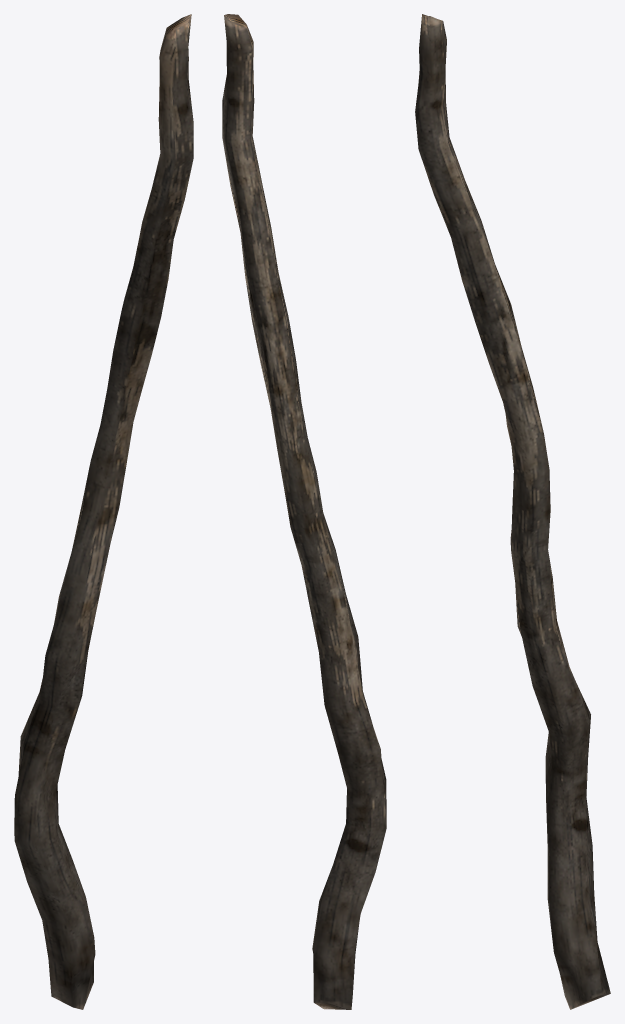
Rendered from SM_Single_Twig_E.fbx.
3 views of the same model, side by side, from view 1: azimuth 30°, elevation 25°; view 2: azimuth 210°, elevation 25°; view 3: azimuth 270°, elevation 25° (orthographic). The views are drawn at different scales.
Parts seen in each view (by area): view 1: SM_Single_Twig_E_LOD0; view 2: SM_Single_Twig_E_LOD0; view 3: SM_Single_Twig_E_LOD0.
Boxes of the visible parts, bbox=[...] form: SM_Single_Twig_E_LOD0: bbox=[14, 14, 193, 1009]; SM_Single_Twig_E_LOD0: bbox=[222, 14, 386, 1009]; SM_Single_Twig_E_LOD0: bbox=[415, 14, 610, 1009].
Bounding box in the file's own units: 12.91 × 21 × 120.
1 material, 1 textured.
